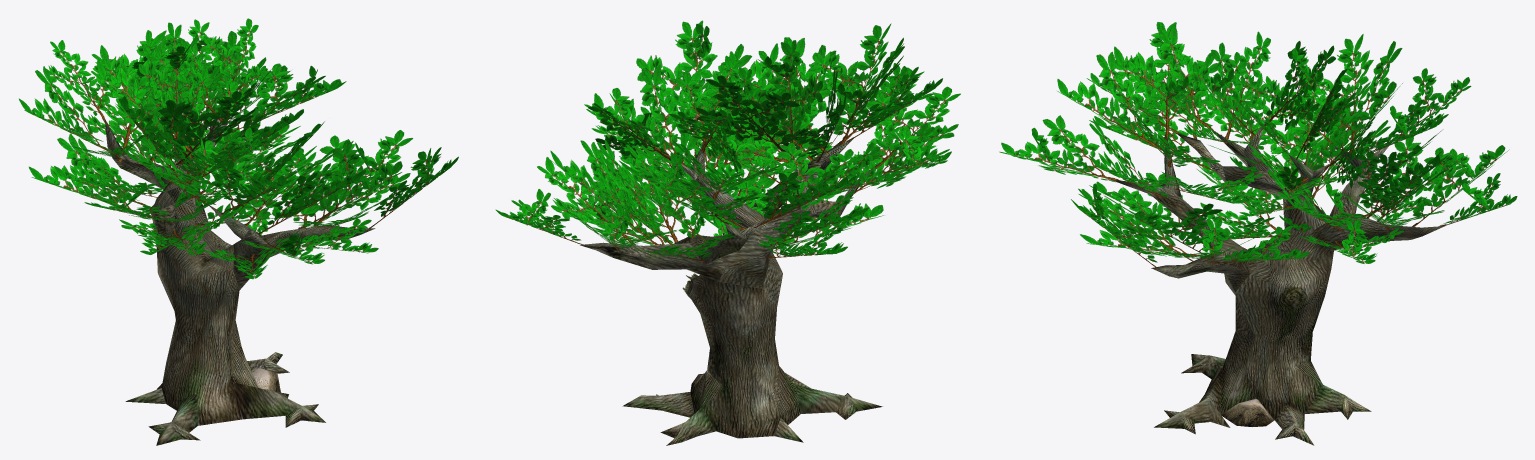
The model's file is test_tree.gltf.
3 renders of one model, left to right at view 1: azimuth 30°, elevation 25°; view 2: azimuth 150°, elevation 25°; view 3: azimuth 270°, elevation 25°, orthographic. The views are drawn at different scales.
Visible parts, largest first — view 1: oak; view 2: oak; view 3: oak.
Part boxes in pixels (box(x1,y1,x2,y2)): oak: box(19, 18, 458, 445); oak: box(495, 20, 960, 445); oak: box(999, 22, 1517, 445).
Size of the model in its own units: 212 by 207 by 282.
2 materials, 2 textured.
